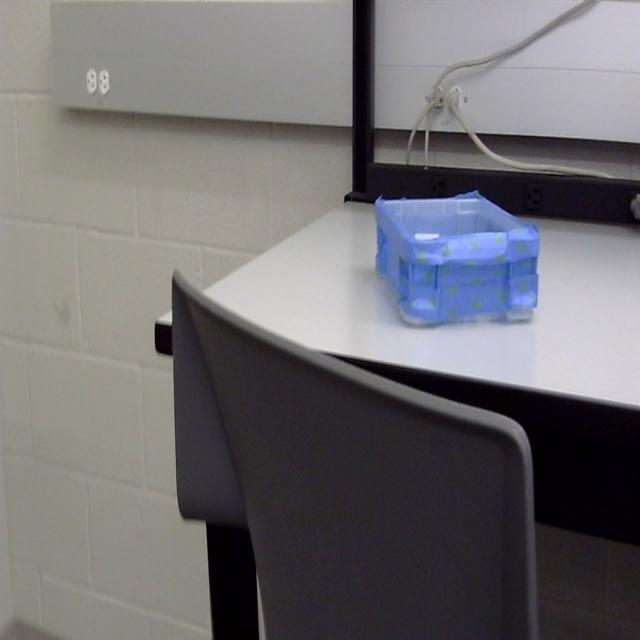bucket: (372, 186, 540, 331)
